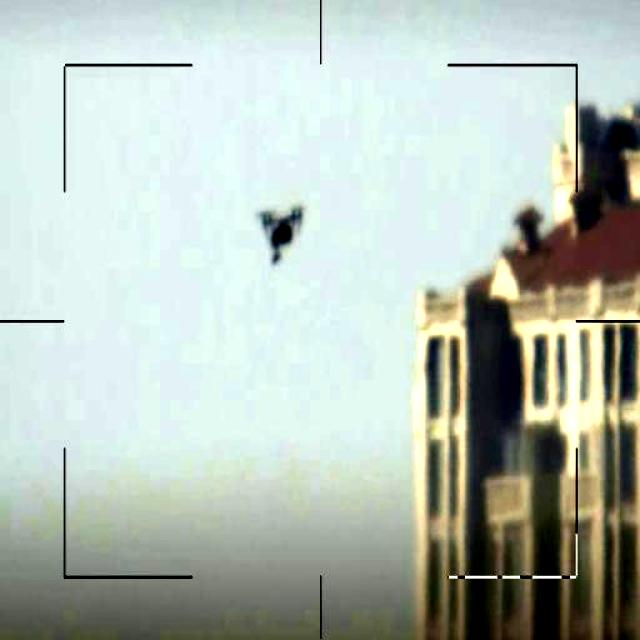bird: (249, 194, 309, 272)
